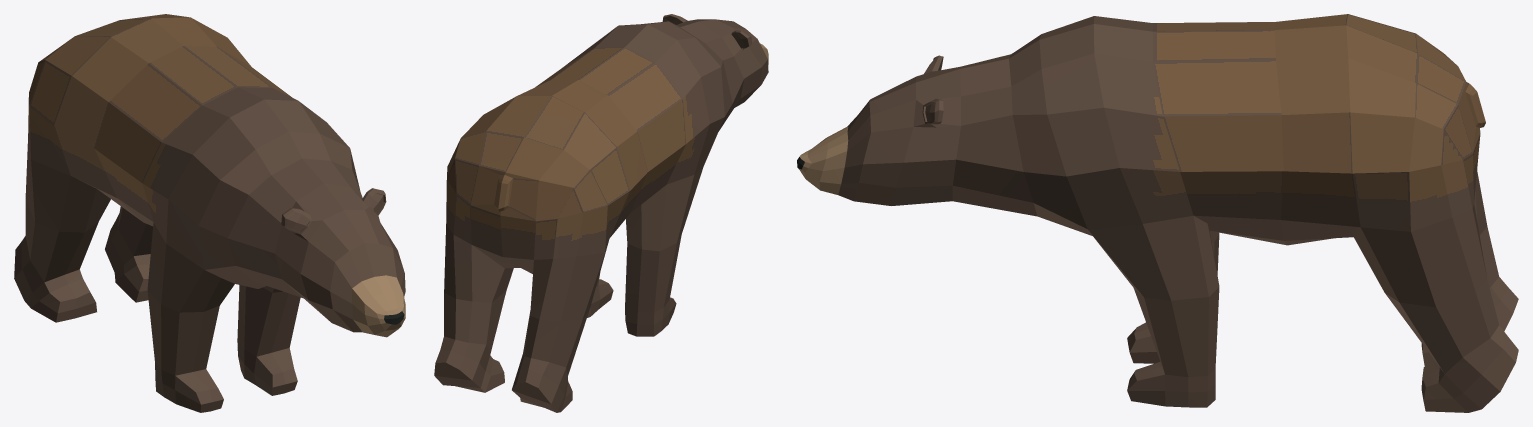
File: bear-heavy-shoulder.glb
The picture shows the model from 3 angles, left to right: view 1: azimuth 30°, elevation 25°; view 2: azimuth 150°, elevation 25°; view 3: azimuth 270°, elevation 25°; orthographic projection. The views are drawn at different scales.
Visible parts, largest first — view 1: bear-heavy-shoulder runtime mesh; view 2: bear-heavy-shoulder runtime mesh; view 3: bear-heavy-shoulder runtime mesh.
Boxes of the visible parts, <box> form: bear-heavy-shoulder runtime mesh: <box>14,14,405,412</box>; bear-heavy-shoulder runtime mesh: <box>434,14,768,412</box>; bear-heavy-shoulder runtime mesh: <box>797,14,1518,412</box>.
Bounding box in the file's own units: 0.7822 × 1.25 × 2.3.
1 material, 1 textured.
